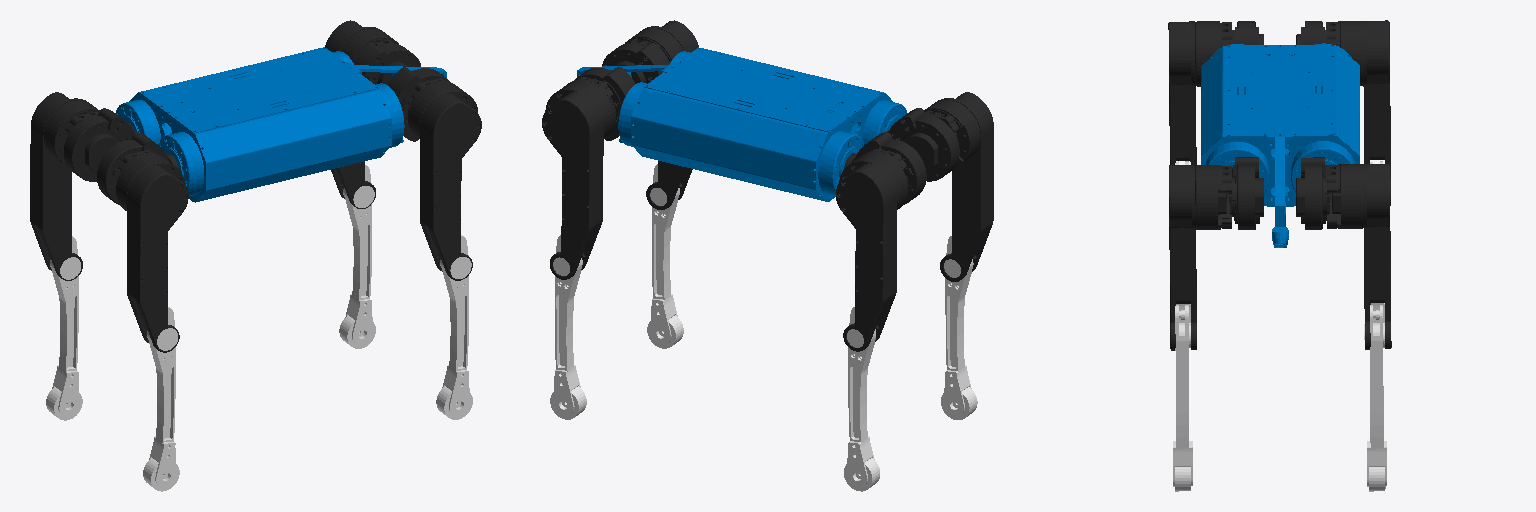
URDF robot description (canineV4_with_head):
<?xml version="1.0" ?>
<robot name="canineV4_with_head">
  
  <material name="blue">
    <color rgba="0.0 0.5 0.8 0.9"/>
  </material>
  
  <material name="black1">
    <color rgba="0.2 0.2 0.2 1.0"/>
  </material>
  
  <material name="white">
    <color rgba="0.9 0.9 0.9 1.0"/>
  </material>
  
  <link name="base">
    <visual>
      <origin rpy="0 0 0" xyz="0 0 0"/>
      <geometry>
        <box size="0.001 0.001 0.001"/>
      </geometry>
    </visual>
  </link>

  <joint name="floating_base" type="fixed">
    <origin rpy="0 0 0" xyz="0 0 0"/>
    <parent link="base"/>
    <child link="trunk"/>
  </joint>

  <link name="trunk">
    <inertial>
      <origin xyz="0.014339238801855274 0.0005227403404208719 -0.0014269636674238235" rpy="0 0 0"/>
      <mass value = "7.568"/>
      <inertia ixx = "0.0430247" ixy = "0" ixz = "0" iyx = "0" iyy = "0.0992644" iyz = "0" izx = "0" izy = "0" izz = "0.125897"/>
    </inertial>
    <visual>
      <origin xyz="0 0 0" rpy="0 0 0"/>
      <geometry>
        <mesh filename="../meshes/base_link_with_head.stl" scale="0.001 0.001 0.001"/>
      </geometry>
      <material name="blue"/>
    </visual>
    <collision>
      <origin xyz="0 0 -0.011" rpy="0 0 0"/>
      <geometry>
        <box size= "0.38 0.235 0.131"/>
      </geometry>
    </collision>
  </link>
  
  <!--Front Left-->
  <link name="FL_hip">
    <inertial>
      <origin xyz="0.058975220413676505 -0.016130924422260128 -9.470708630414767e-05" rpy="0 0 0"/>
      <mass value = "0.7498"/>
      <inertia ixx = "0.000564293" iyy = "0.00108156" izz = "0.000706237" ixy = "3.9187e-05" iyz = "2.61247e-06" ixz = "0"/>
    </inertial>
    <visual>
      <origin xyz="-0.185613 -0.065216 -0.000494" rpy="0 0 0"/>
      <geometry>
        <mesh filename="../meshes/FL_Hip_1.stl" scale="0.001 0.001 0.001"/>
      </geometry>
      <material name="black1"/>
    </visual>
    <collision>
      <origin xyz="-0.185613 -0.065216 -0.000494" rpy="0 0 0"/>
      <geometry>
        <mesh filename="../meshes/FL_Hip_1.obj" scale="0.001 0.001 0.001"/>
      </geometry>
    </collision>
  </link>
  
  <link name="FL_thigh">
    <inertial>
      <origin xyz="-0.005295476492297502 0.055863741051553104 -0.02739556562567192" rpy="0 0 0"/>
      <mass value = "1.6223"/>
      <inertia ixx = "0.00754088" iyy = "0.00733144" izz = "0.00206749" ixy = "0.000208444" iyz = "0.0013115" ixz = "-0.000668218"/>
    </inertial>
    <visual>
      <origin xyz="-0.256107 -0.062095 -0.000475" rpy="0 0 0"/>
      <geometry>
        <mesh filename="../meshes/FL_thigh_1.stl" scale="0.001 0.001 0.001"/>
      </geometry>
      <material name="black1"/>
    </visual>
    <collision>
      <origin xyz="0 0.084 -0.23" rpy="1.57079632679 0 0"/>
      <geometry>
        <cylinder length="0.019" radius="0.015"/>
      </geometry>
    </collision>
  </link>
  
  <link name="FL_calf">
    <inertial>
      <origin xyz="0.00031304711228058446 0.018663901688305173 -0.11805864385255102" rpy="0 0 0"/>
      <mass value = "0.4049"/>
      <inertia ixx = "0.00415323" iyy = "0.00417183" izz = "7.25698e-05" ixy = "9.30382e-07" iyz = "2.51203e-05" ixz = "-7.44306e-05"/>
    </inertial>
    <visual>
      <origin xyz="0.256221 0.1424 0.230545" rpy="0 0 0"/>
      <geometry>
        <mesh filename="../meshes/HR_calf_1.stl" scale="0.001 0.001 0.001"/>
      </geometry>
      <material name="white"/>
    </visual>
    <collision>
      <origin xyz="0 0 -0.23" rpy="1.57079632679 0 0"/>
      <geometry>
        <cylinder length="0.024" radius="0.025"/>
      </geometry>
    </collision>
  </link>
  
  <!--  Front Right -->
  <link name="FR_hip">
    <inertial>
      <origin xyz="0.059030654145396516 0.015927423670200135 9.247774957795986e-05" rpy="0 0 0"/>
      <mass value = "0.7498"/>
      <inertia ixx = "0.000564293" iyy = "0.00108156" izz = "0.000706237" ixy = "3.9187e-05" iyz = "2.61247e-06" ixz = "0"/>
    </inertial>
    <visual>
      <origin xyz="-0.185389 0.06478 0.000488" rpy="0 0 0"/>
      <geometry>
        <mesh filename="../meshes/FR_Hip_1.stl" scale="0.001 0.001 0.001"/>
      </geometry>
      <material name="black1"/>
    </visual>
    <collision>
      <origin xyz="-0.185389 0.06478 0.000488" rpy="0 0 0"/>
      <geometry>
        <mesh filename="../meshes/FR_Hip_1.obj" scale="0.001 0.001 0.001"/>
      </geometry>
    </collision>
  </link>
  
  <link name="FR_thigh">
    <inertial>
      <origin xyz="-0.0054874276469241146 -0.055519109948595644 -0.028025753197478204" rpy="0 0 0"/>
      <mass value = "1.6223"/>
      <inertia ixx = "0.00754088" iyy = "0.00733144" izz = "0.00206749" ixy = "0.000208444" iyz = "0.0013115" ixz = "-0.000668218"/>
    </inertial>
    <visual>
      <origin xyz="-0.255894 0.061902 0.000472" rpy="0 0 0"/>
      <geometry>
        <mesh filename="../meshes/FR_thigh_1.stl" scale="0.001 0.001 0.001"/>
      </geometry>
      <material name="black1"/>
    </visual>
    <collision>
      <origin xyz="0 -0.084 -0.23" rpy="1.57079632679 0 0"/>
      <geometry>
        <cylinder length="0.019" radius="0.015"/>
      </geometry>
    </collision>
  </link>
  
  <link name="FR_calf">
    <inertial>
      <origin xyz="-0.0018108281142471538 -0.017331701500681695 -0.11825587817029126" rpy="0 0 0"/>
      <mass value = "0.4049"/>
      <inertia ixx = "0.00415323" iyy = "0.00417183" izz = "7.25698e-05" ixy = "9.30382e-07" iyz = "2.51203e-05" ixz = "-7.44306e-05"/>
    
    </inertial>
    <visual>
      <origin xyz="0.256221 0.1424 0.230545" rpy="0 0 0"/>
      <geometry>
        <mesh filename="../meshes/HR_calf_1.stl" scale="0.001 0.001 0.001"/>
      </geometry>
      <material name="white"/>
    </visual>
    <collision>
      <origin xyz="0 0 -0.23" rpy="1.57079632679 0 0"/>
      <geometry>
        <cylinder length="0.024" radius="0.025"/>
      </geometry>
    </collision>
  </link>
  
  <!--  Hind Left-->
  <link name="HL_hip">
    <inertial>
      <origin xyz="-0.05903082809440047 -0.01592734296849691 -9.238738722284502e-05" rpy="0 0 0"/>
      <mass value = "0.7498"/>
      <inertia ixx = "0.000564293" iyy = "0.00108156" izz = "0.000706237" ixy = "3.9187e-05" iyz = "2.61247e-06" ixz = "0"/>
    </inertial>
    <visual>
      <origin xyz="0.185387 -0.065854 -0.000501" rpy="0 0 0"/>
      <geometry>
        <mesh filename="../meshes/HL_Hip_1.stl" scale="0.001 0.001 0.001"/>
      </geometry>
      <material name="black1"/>
    </visual>
    <collision>
      <origin xyz="0.185387 -0.065854 -0.000501" rpy="0 0 0"/>
      <geometry>
        <mesh filename="../meshes/HL_Hip_1.obj" scale="0.001 0.001 0.001"/>
      </geometry>
    </collision>
  </link>
  
  <link name="HL_thigh">
    <inertial>
      <origin xyz="-0.0043479246699852925 0.055862527145962446 -0.027440966657779627" rpy="0 0 0"/>
      <mass value = "1.6223"/>
      <inertia ixx = "0.00754088" iyy = "0.00733144" izz = "0.00206749" ixy = "0.000208444" iyz = "0.0013115" ixz = "-0.000668218"/>
    </inertial>
    <visual>
      <origin xyz="0.255892 -0.062976 -0.000485" rpy="0 0 0"/>
      <geometry>
        <mesh filename="../meshes/HL_thigh_1.stl" scale="0.001 0.001 0.001"/>
      </geometry>
      <material name="black1"/>
    </visual>
    <collision>
      <origin xyz="0 0.084 -0.23" rpy="1.57079632679 0 0"/>
      <geometry>
        <cylinder length="0.019" radius="0.015"/>
      </geometry>
    </collision>
  </link>
  
  <link name="HL_calf">
    <inertial>
      <origin xyz="0.004436553462955517 0.018656478060602333 -0.11797708805343396" rpy="0 0 0"/>
      <mass value = "0.4049"/>
      <inertia ixx = "0.00415323" iyy = "0.00417183" izz = "7.25698e-05" ixy = "9.30382e-07" iyz = "2.51203e-05" ixz = "-7.44306e-05"/>
    </inertial>
    <visual>
      <origin xyz="0.256221 0.1424 0.230545" rpy="0 0 0"/>
      <geometry>
        <mesh filename="../meshes/HR_calf_1.stl" scale="0.001 0.001 0.001"/>
      </geometry>
      <material name="white"/>
    </visual>
    <collision>
      <origin xyz="0 0 -0.23" rpy="1.57079632679 0 0"/>
      <geometry>
        <cylinder length="0.024" radius="0.025"/>
      </geometry>
    </collision>
  </link>
  
  <!--  Hind Right -->
  <link name="HR_hip">
    <inertial>
      <origin xyz="-0.05897539437436458 0.016131005161887584 9.480463785772582e-05" rpy="0 0 0"/>
      <mass value = "0.7498"/>
      <inertia ixx = "0.000564293" iyy = "0.00108156" izz = "0.000706237" ixy = "3.9187e-05" iyz = "2.61247e-06" ixz = "0"/>
    </inertial>
    <visual>
      <origin xyz="0.185611 0.064142 0.000481" rpy="0 0 0"/>
      <geometry>
        <mesh filename="../meshes/HR_Hip_1.stl" scale="0.001 0.001 0.001"/>
      </geometry>
      <material name="black1"/>
    </visual>
    <collision>
      <origin xyz="0.185611 0.064142 0.000481" rpy="0 0 0"/>
      <geometry>
        <mesh filename="../meshes/HR_Hip_1.obj" scale="0.001 0.001 0.001"/>
      </geometry>
    </collision>
  </link>
  
  <link name="HR_thigh">
    <inertial>
      <origin xyz="-0.004502314615021097 -0.05548927838716084 -0.027817895991566484" rpy="0 0 0"/>
      <mass value = "1.6223"/>
      <inertia ixx = "0.00754088" iyy = "0.00733144" izz = "0.00206749" ixy = "0.000208444" iyz = "0.0013115" ixz = "-0.000668218"/>
    </inertial>
    <visual>
      <origin xyz="0.256105 0.06102 0.000462" rpy="0 0 0"/>
      <geometry>
        <mesh filename="../meshes/HR_thigh_1.stl" scale="0.001 0.001 0.001"/>
      </geometry>
      <material name="black1"/>
    </visual>
    <collision>
      <origin xyz="0 -0.084 -0.23" rpy="1.57079632679 0 0"/>
      <geometry>
        <cylinder length="0.024" radius="0.025"/>
      </geometry>
    </collision>
  </link>
  
  <link name="HR_calf">
    <inertial>
      <origin xyz="0.002302575792990591 -0.017335752937394422 -0.11753324247330965" rpy="0 0 0"/>
      <mass value = "0.3639"/>
      <inertia ixx = "0.00373267" iyy = "0.0037494" izz = "6.52214e-05" ixy = "8.36172e-07" iyz = "2.25766e-05" ixz = "-6.68938e-05"/>
    </inertial>
    <visual>
      <origin xyz="0.256221 0.1424 0.230545" rpy="0 0 0"/>
      <geometry>
        <mesh filename="../meshes/HR_calf_1.stl" scale="0.001 0.001 0.001"/>
      </geometry>
      <material name="white"/>
    </visual>
    <collision>
      <origin xyz="0 0 -0.23" rpy="1.57079632679 0 0"/>
      <geometry>
        <cylinder length="0.024" radius="0.025"/>
      </geometry>
    </collision>
  </link>
  
  <!--  joint -->
  <joint name="FL_HIP" type="revolute">
    <origin xyz="0.185 0.065 0.0" rpy="0 0 0"/>
    <parent link="trunk"/>
    <child link="FL_hip"/>
    <axis xyz="1 0 0"/>
  </joint>
  
  <joint name="FL_THIGH" type="revolute">
    <origin xyz="0.07 -0.003 0.0" rpy="0 0 0"/>
    <parent link="FL_hip"/>
    <child link="FL_thigh"/>
    <axis xyz="0 1 0"/>
  </joint>
  
  <joint name="FL_KNEE" type="revolute">
    <origin xyz="0 0.084 -0.23" rpy="0 0 0"/>
    <parent link="FL_thigh"/>
    <child link="FL_calf"/>
    <axis xyz="0 1 0"/>
  </joint>
  
  <joint name="FR_HIP" type="revolute">
    <origin xyz="0.185 -0.065 0.0" rpy="0 0 0"/>
    <parent link="trunk"/>
    <child link="FR_hip"/>
    <axis xyz="1 0 0"/>
  </joint>
  
  <joint name="FR_THIGH" type="revolute">
    <origin xyz="0.07 0.003 0.0" rpy="0 0 0"/>
    <parent link="FR_hip"/>
    <child link="FR_thigh"/>
    <axis xyz="0 1 0"/>
  </joint>
  
  <joint name="FR_KNEE" type="revolute">
    <origin xyz="0 -0.084 -0.23" rpy="0 0 0"/>
    <parent link="FR_thigh"/>
    <child link="FR_calf"/>
    <axis xyz="0 1 0"/>
  </joint>
  
  <joint name="HL_HIP" type="revolute">
    <origin xyz="-0.185 0.065 0.0" rpy="0 0 0"/>
    <parent link="trunk"/>
    <child link="HL_hip"/>
    <axis xyz="1 0 0"/>
  </joint>
  
  <joint name="HL_THIGH" type="revolute">
    <origin xyz="-0.07 -0.003 0.0" rpy="0 0 0"/>
    <parent link="HL_hip"/>
    <child link="HL_thigh"/>
    <axis xyz="0 1 0"/>
  </joint>
  
  <joint name="HL_KNEE" type="revolute">
    <origin xyz="0 0.084 -0.23" rpy="0 0 0"/>
    <parent link="HL_thigh"/>
    <child link="HL_calf"/>
    <axis xyz="0 1 0"/>
  </joint>
  
  <joint name="HR_HIP" type="revolute">
    <origin xyz="-0.185 -0.065 0.0" rpy="0 0 0"/>
    <parent link="trunk"/>
    <child link="HR_hip"/>
    <axis xyz="1 0 0"/>
  </joint>
  
  <joint name="HR_THIGH" type="revolute">
    <origin xyz="-0.07 0.003 0.0" rpy="0 0 0"/>
    <parent link="HR_hip"/>
    <child link="HR_thigh"/>
    <axis xyz="0 1 0"/>
  </joint>
  
  <joint name="HR_KNEE" type="revolute">
    <origin xyz="0 -0.084 -0.23" rpy="0 0 0"/>
    <parent link="HR_thigh"/>
    <child link="HR_calf"/>
    <axis xyz="0 1 0"/>
  </joint>
</robot>

--- Facts derived from the render (not from the file) ---
3 views of the same robot in one strip: view 1: azimuth 30°, elevation 25°; view 2: azimuth 150°, elevation 25°; view 3: azimuth 270°, elevation 25° (orthographic).
Model canineV4_with_head with 14 links and 13 joints (12 revolute, 1 fixed), rooted at base, posed every joint at zero.
Links seen in each view (by area): view 1: trunk, FR_thigh, HR_thigh, HL_thigh, FR_calf, HL_calf, FL_calf, HR_calf, HL_hip, FL_thigh, HR_hip, FL_hip (+1 smaller); view 2: trunk, HL_thigh, FL_thigh, HR_thigh, HL_calf, FL_calf, HR_calf, FR_calf, HR_hip, FR_thigh, HL_hip, FR_hip (+1 smaller); view 3: trunk, FL_thigh, FR_thigh, HR_thigh, HL_thigh, FL_calf, FR_calf, FR_hip, FL_hip, HR_hip, HL_hip.
Boxes of the visible links, x1,y1,x2,y2 form: trunk: [115, 47, 446, 202]; FR_thigh: [408, 78, 481, 280]; HR_thigh: [112, 150, 188, 352]; HL_thigh: [30, 92, 99, 280]; FR_calf: [436, 235, 472, 419]; HL_calf: [46, 236, 82, 420]; FL_calf: [339, 165, 375, 348]; HR_calf: [143, 307, 179, 491]; HL_hip: [64, 108, 135, 181]; FL_thigh: [325, 20, 398, 208]; HR_hip: [97, 132, 178, 204]; FL_hip: [354, 43, 420, 84]; trunk: [577, 47, 907, 201]; HL_thigh: [836, 149, 911, 351]; FL_thigh: [542, 77, 615, 279]; HR_thigh: [924, 92, 993, 281]; HL_calf: [844, 307, 879, 491]; FL_calf: [550, 235, 586, 419]; HR_calf: [941, 236, 977, 419]; FR_calf: [647, 164, 683, 348]; HR_hip: [887, 108, 959, 181]; FR_thigh: [625, 20, 698, 209]; HL_hip: [844, 132, 926, 204]; FR_hip: [602, 43, 669, 83]; trunk: [1201, 43, 1359, 247]; FL_thigh: [1324, 164, 1391, 349]; FR_thigh: [1169, 165, 1235, 350]; HR_thigh: [1168, 21, 1232, 164]; HL_thigh: [1326, 20, 1390, 205]; FL_calf: [1364, 305, 1386, 491]; FR_calf: [1173, 305, 1192, 491]; FR_hip: [1232, 157, 1263, 229]; FL_hip: [1296, 157, 1326, 229]; HR_hip: [1233, 21, 1263, 44]; HL_hip: [1296, 21, 1326, 44].
Bounding box of the posed robot: 0.6355 × 0.335 × 0.5437 m (x, y, z).
13 mesh visuals loaded from 10 distinct referenced files (10 binary STL).